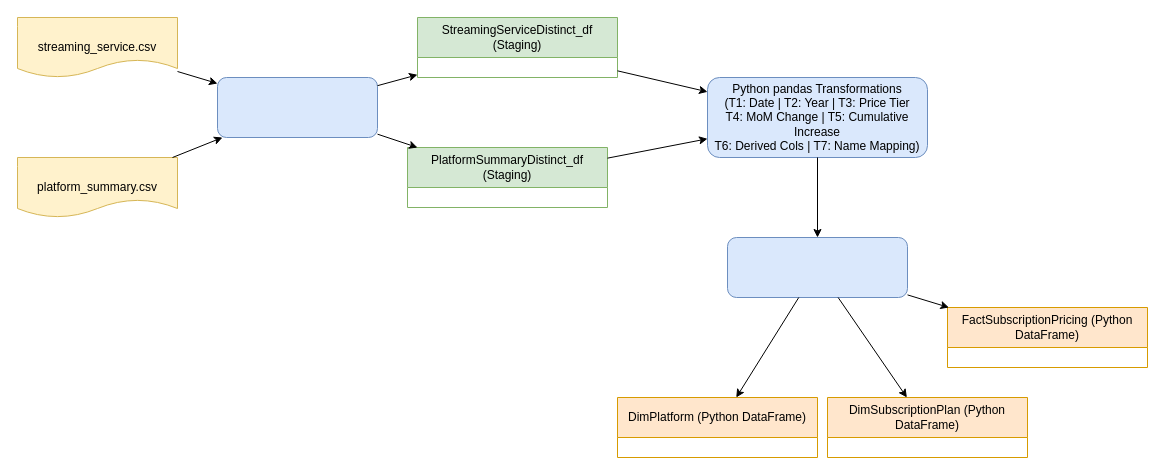
Image size: 1165x475. Some labels were removed from this diagram. Here are the shapes that lost their labels. From the top down, the centre of each, then its label:
At (x=297, y=107): "Python (pd.read_csv)".
At (x=817, y=267): "Python (pd.merge + pd.concat)".
